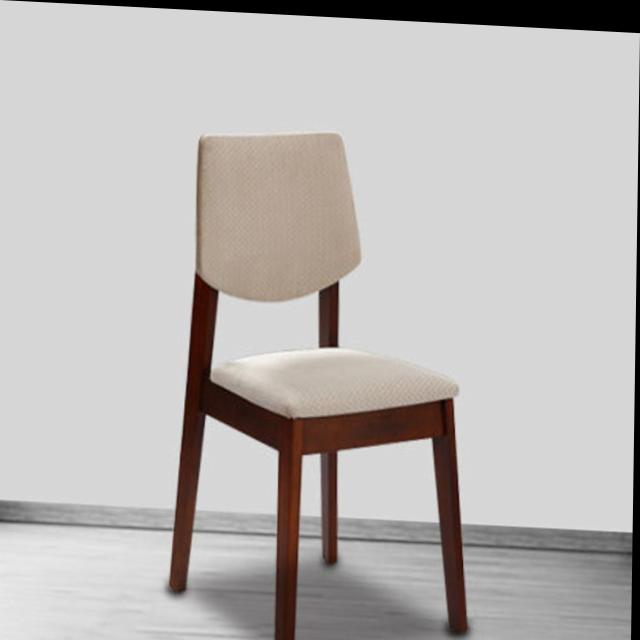Chair: (165, 120, 479, 640)
